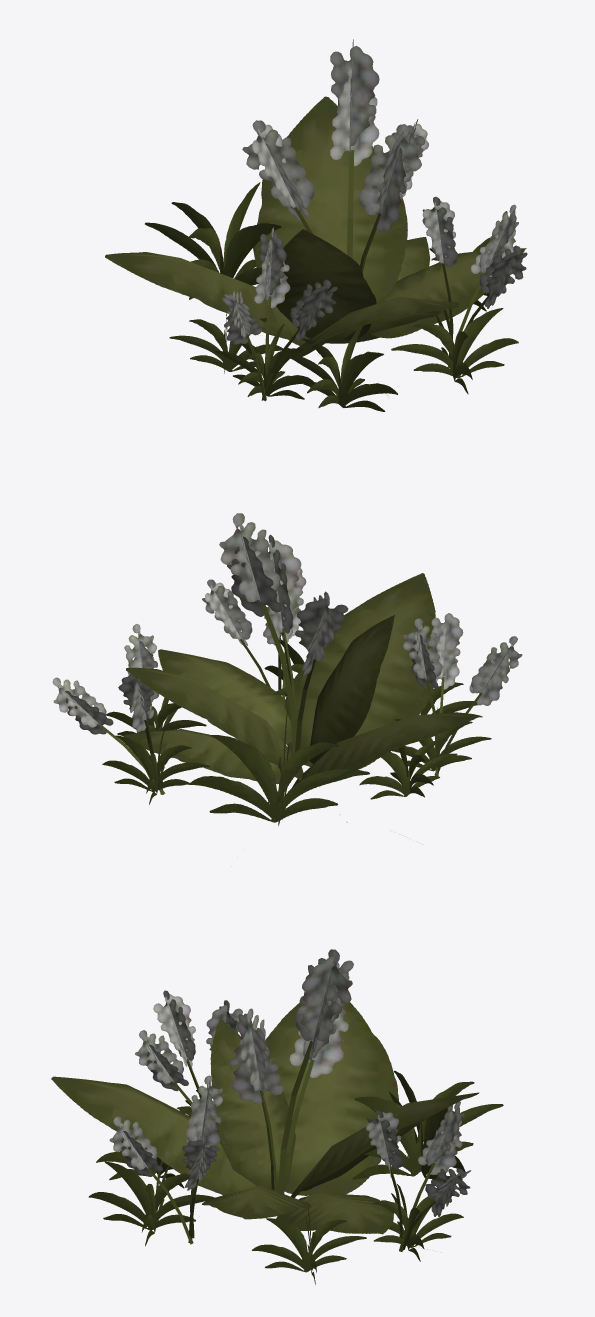
3 views of the same model, one above another, from view 1: azimuth 30°, elevation 25°; view 2: azimuth 150°, elevation 25°; view 3: azimuth 270°, elevation 25° (orthographic). The views are drawn at different scales.
Visible parts, largest first — view 1: body0_model0_lod0_mesh0; view 2: body0_model0_lod0_mesh0; view 3: body0_model0_lod0_mesh0.
Part boxes in pixels (x1,y1,x2,y2): body0_model0_lod0_mesh0: (105,39,527,411); body0_model0_lod0_mesh0: (52,513,522,843); body0_model0_lod0_mesh0: (51,949,503,1284).
Size of the model in its own units: 69.28 by 50.5 by 74.08.
Materials: 1 (1 with a texture image).
